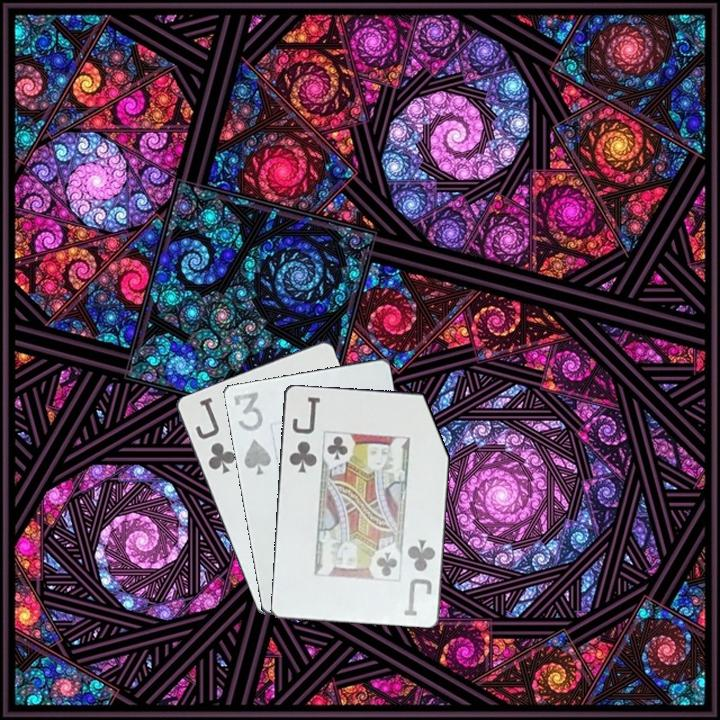3s: (230, 387, 274, 478)
Jc: (191, 393, 238, 477), (285, 393, 323, 476), (400, 535, 438, 618)
